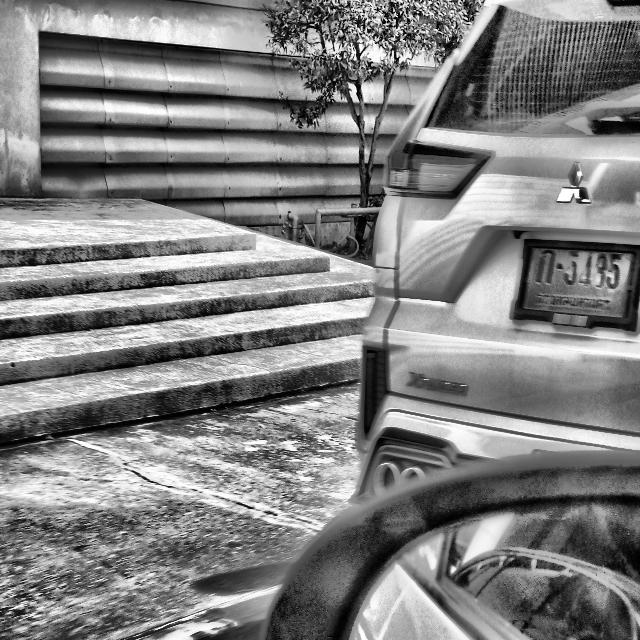license-plate: (517, 233, 640, 329)
